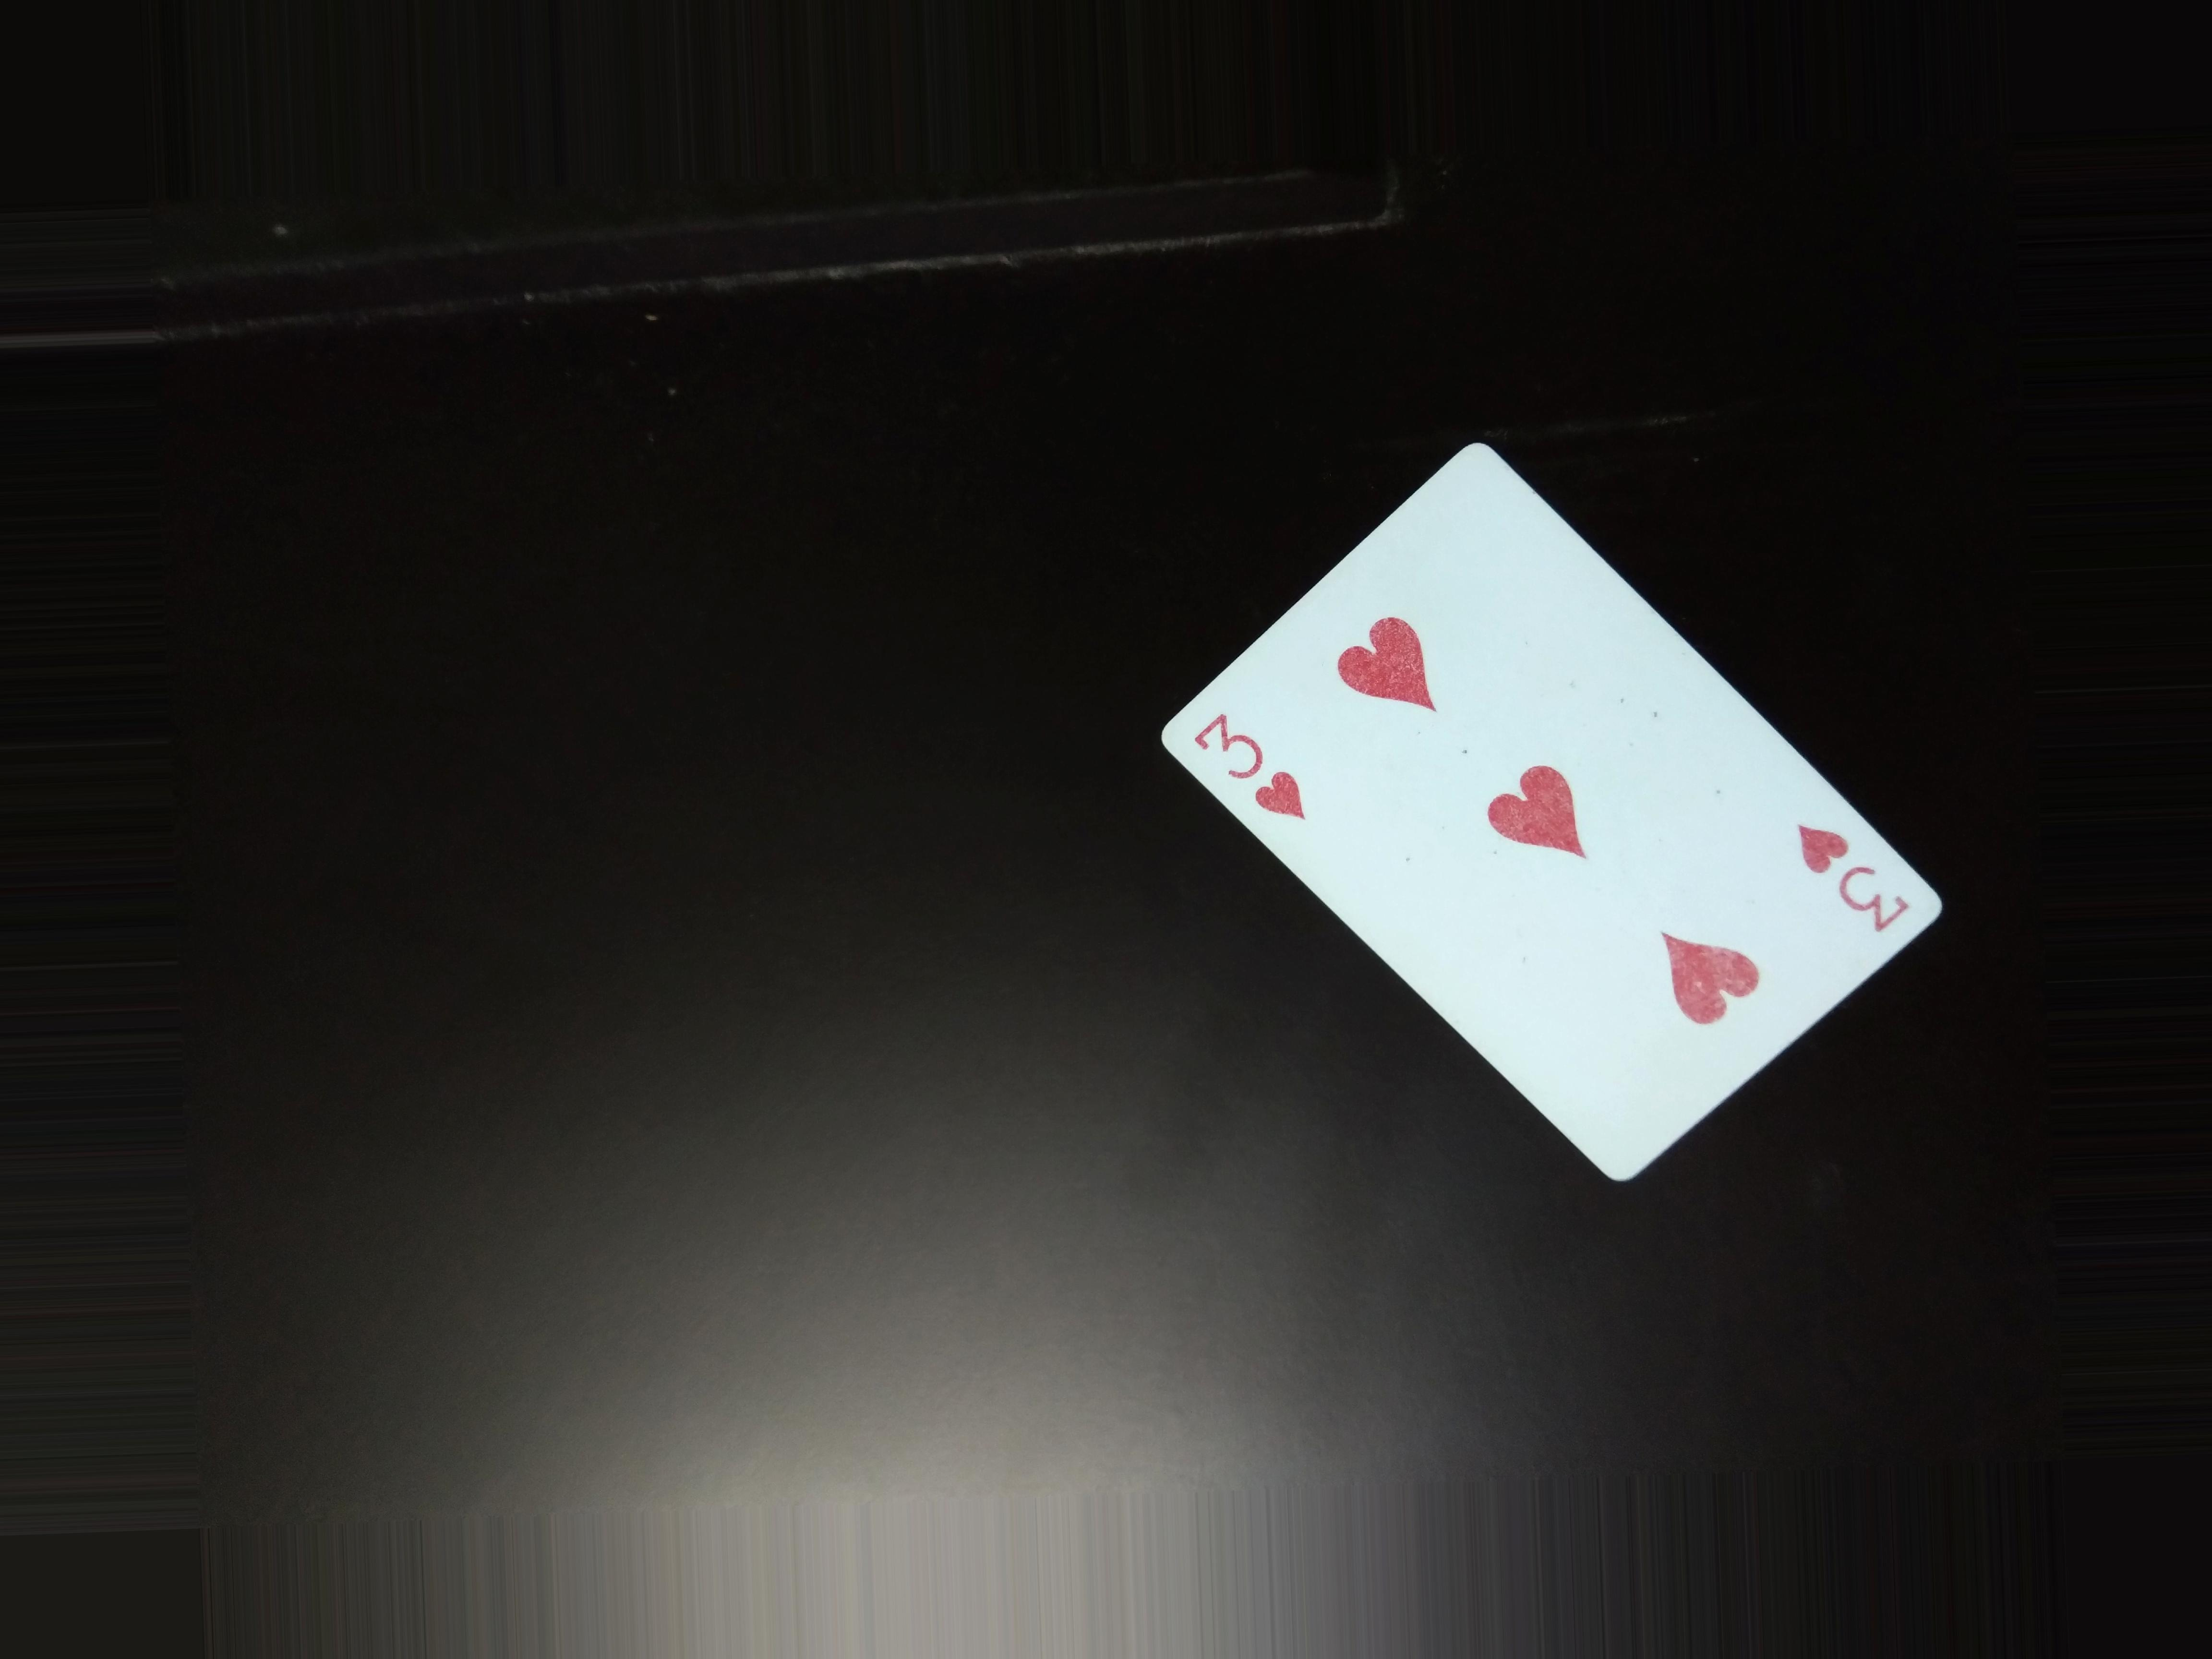3H: (1770, 814, 1926, 934)
